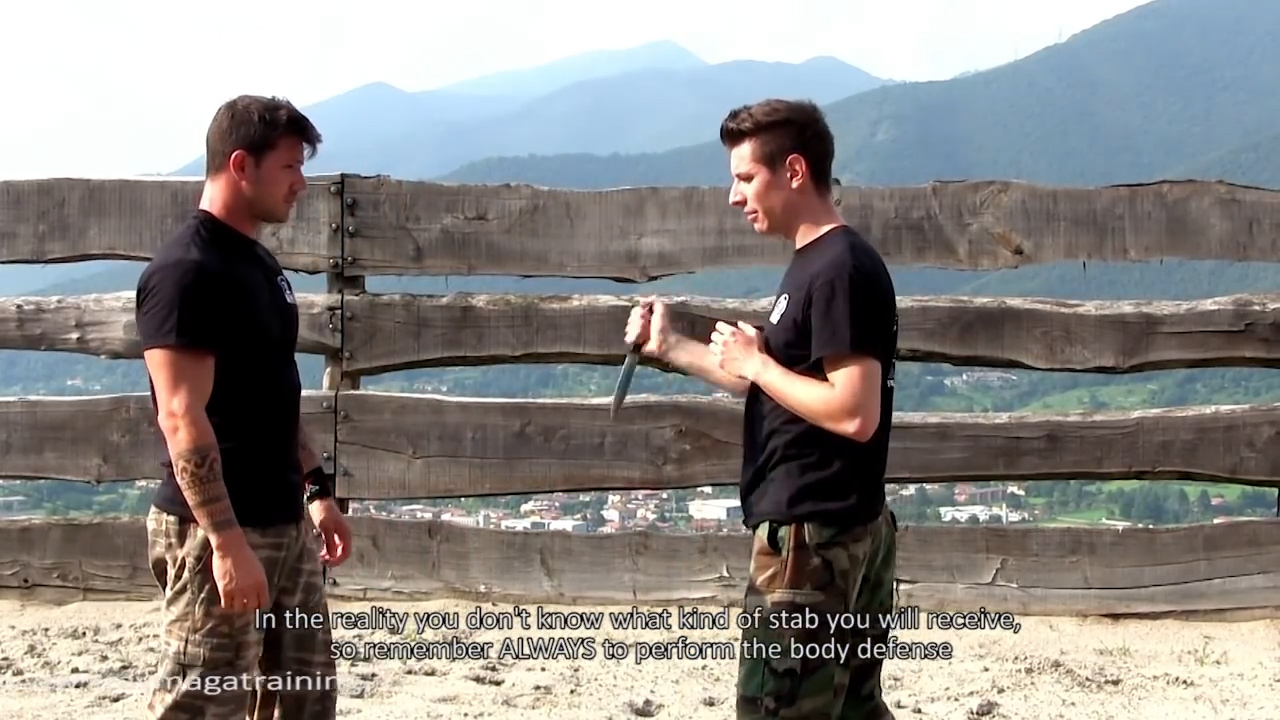knife: (606, 291, 670, 428)
